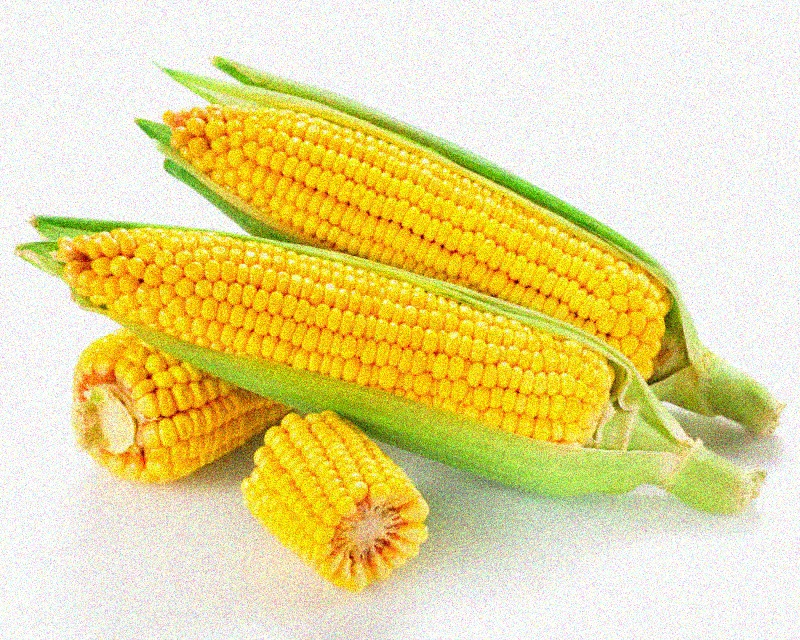corn: (157, 84, 770, 412), (42, 212, 690, 475)
